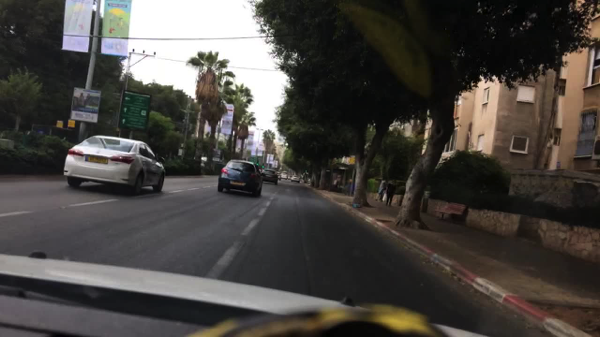car: (64, 135, 165, 197), (217, 159, 261, 198), (260, 169, 277, 186), (290, 175, 301, 184), (280, 171, 287, 179), (274, 172, 281, 180), (288, 174, 293, 179)
person: (381, 178, 397, 206), (377, 179, 386, 202)
traffic light: (261, 162, 264, 168), (256, 160, 258, 166)
traffic sign: (118, 89, 150, 132), (266, 153, 274, 163), (67, 119, 75, 128), (55, 120, 64, 128), (348, 156, 354, 164), (271, 161, 277, 169), (250, 156, 256, 162)
